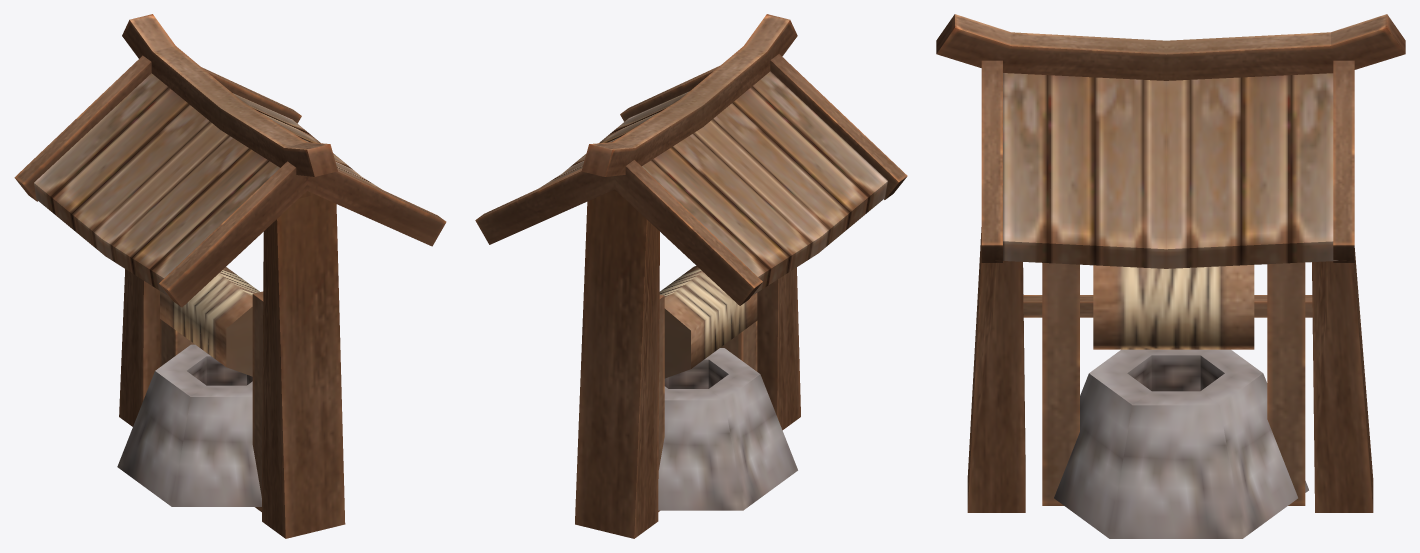
File: FB_CunLuo_Fangwu04.FBX
The picture shows the model from 3 angles, left to right: view 1: azimuth 30°, elevation 25°; view 2: azimuth 150°, elevation 25°; view 3: azimuth 270°, elevation 25°; orthographic projection. The views are drawn at different scales.
Parts seen in each view (by area): view 1: Cylinder01; view 2: Cylinder01; view 3: Cylinder01.
Boxes of the visible parts, x1,y1,x2,y2 form: Cylinder01: (14, 14, 446, 538); Cylinder01: (475, 14, 907, 538); Cylinder01: (936, 14, 1405, 538).
Bounding box in the file's own units: 4.14 × 5.57 × 4.95.
